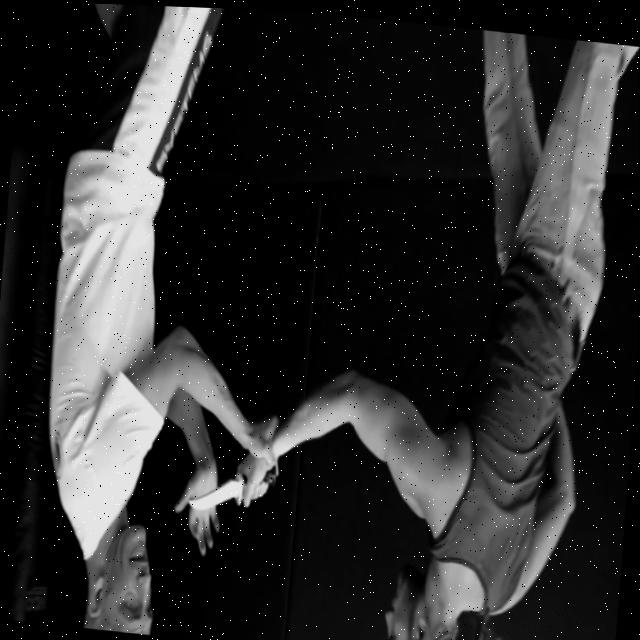knife: (188, 464, 247, 513)
